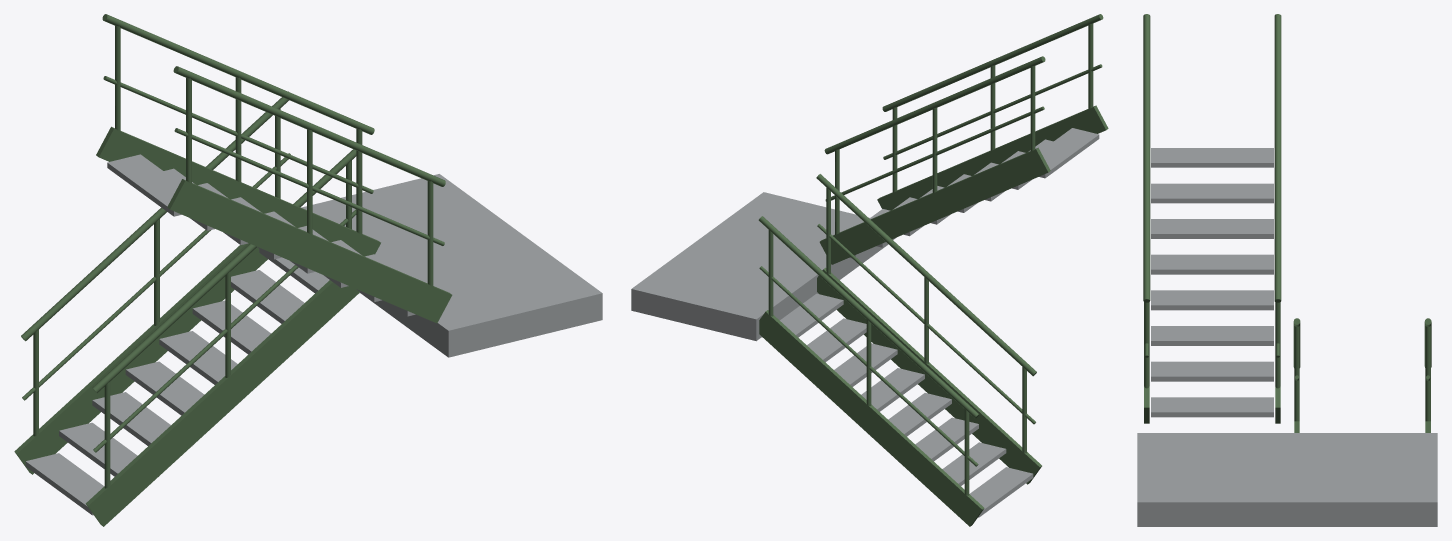
The model's file is str-013.glb.
3 views of the same model, side by side, from view 1: azimuth 30°, elevation 25°; view 2: azimuth 150°, elevation 25°; view 3: azimuth 270°, elevation 25° (orthographic). The views are drawn at different scales.
Parts seen in each view (by area): view 1: rail_green, prison_floor; view 2: rail_green, prison_floor; view 3: prison_floor, rail_green.
Boxes of the visible parts, left/top/right/bottom form: rail_green: left=14, top=14, right=452, bottom=526; prison_floor: left=25, top=154, right=602, bottom=515; rail_green: left=758, top=14, right=1108, bottom=526; prison_floor: left=631, top=128, right=1099, bottom=517; prison_floor: left=1137, top=148, right=1437, bottom=526; rail_green: left=1143, top=14, right=1431, bottom=432.
Size of the model in its own units: 3.34 by 3.87 by 2.2.
